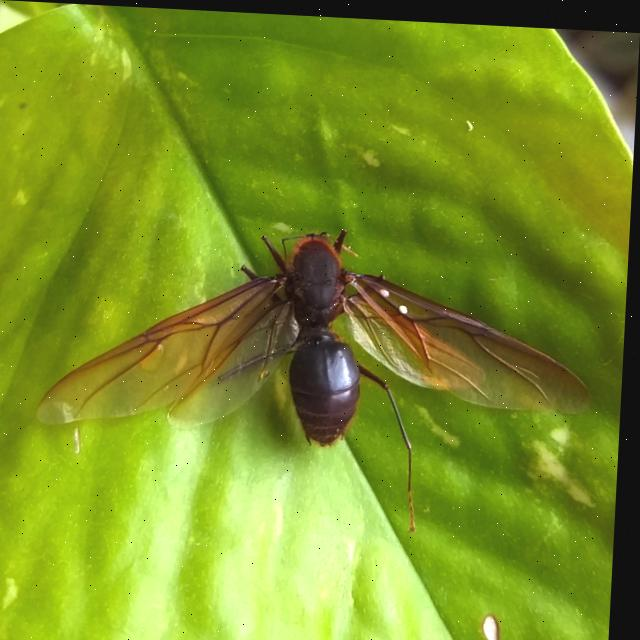Dead-Male-Alate: (37, 212, 601, 536)
